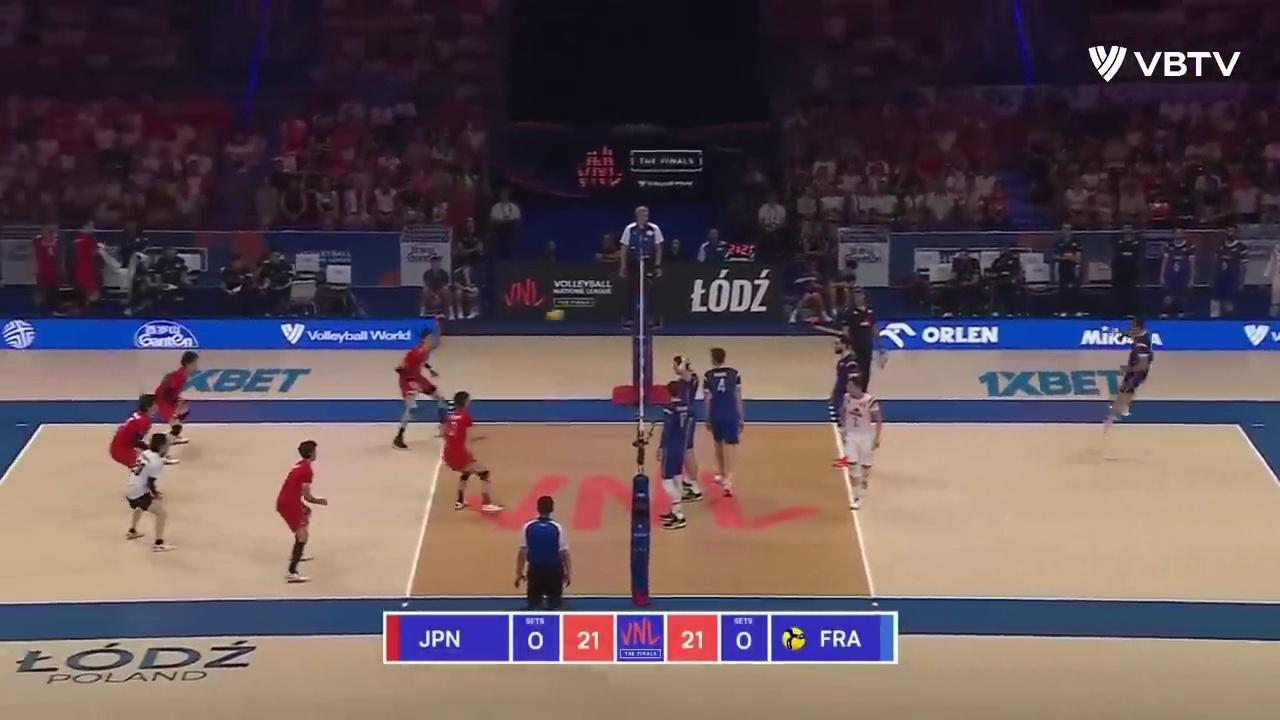ball: (544, 309, 565, 319)
